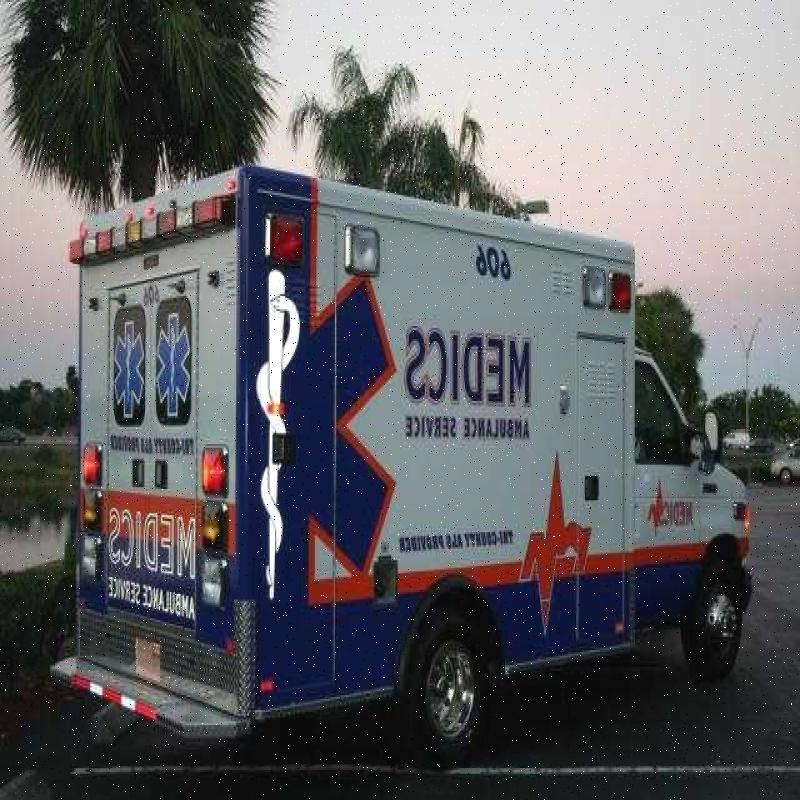AmbulanceSiren: (65, 167, 237, 285)
